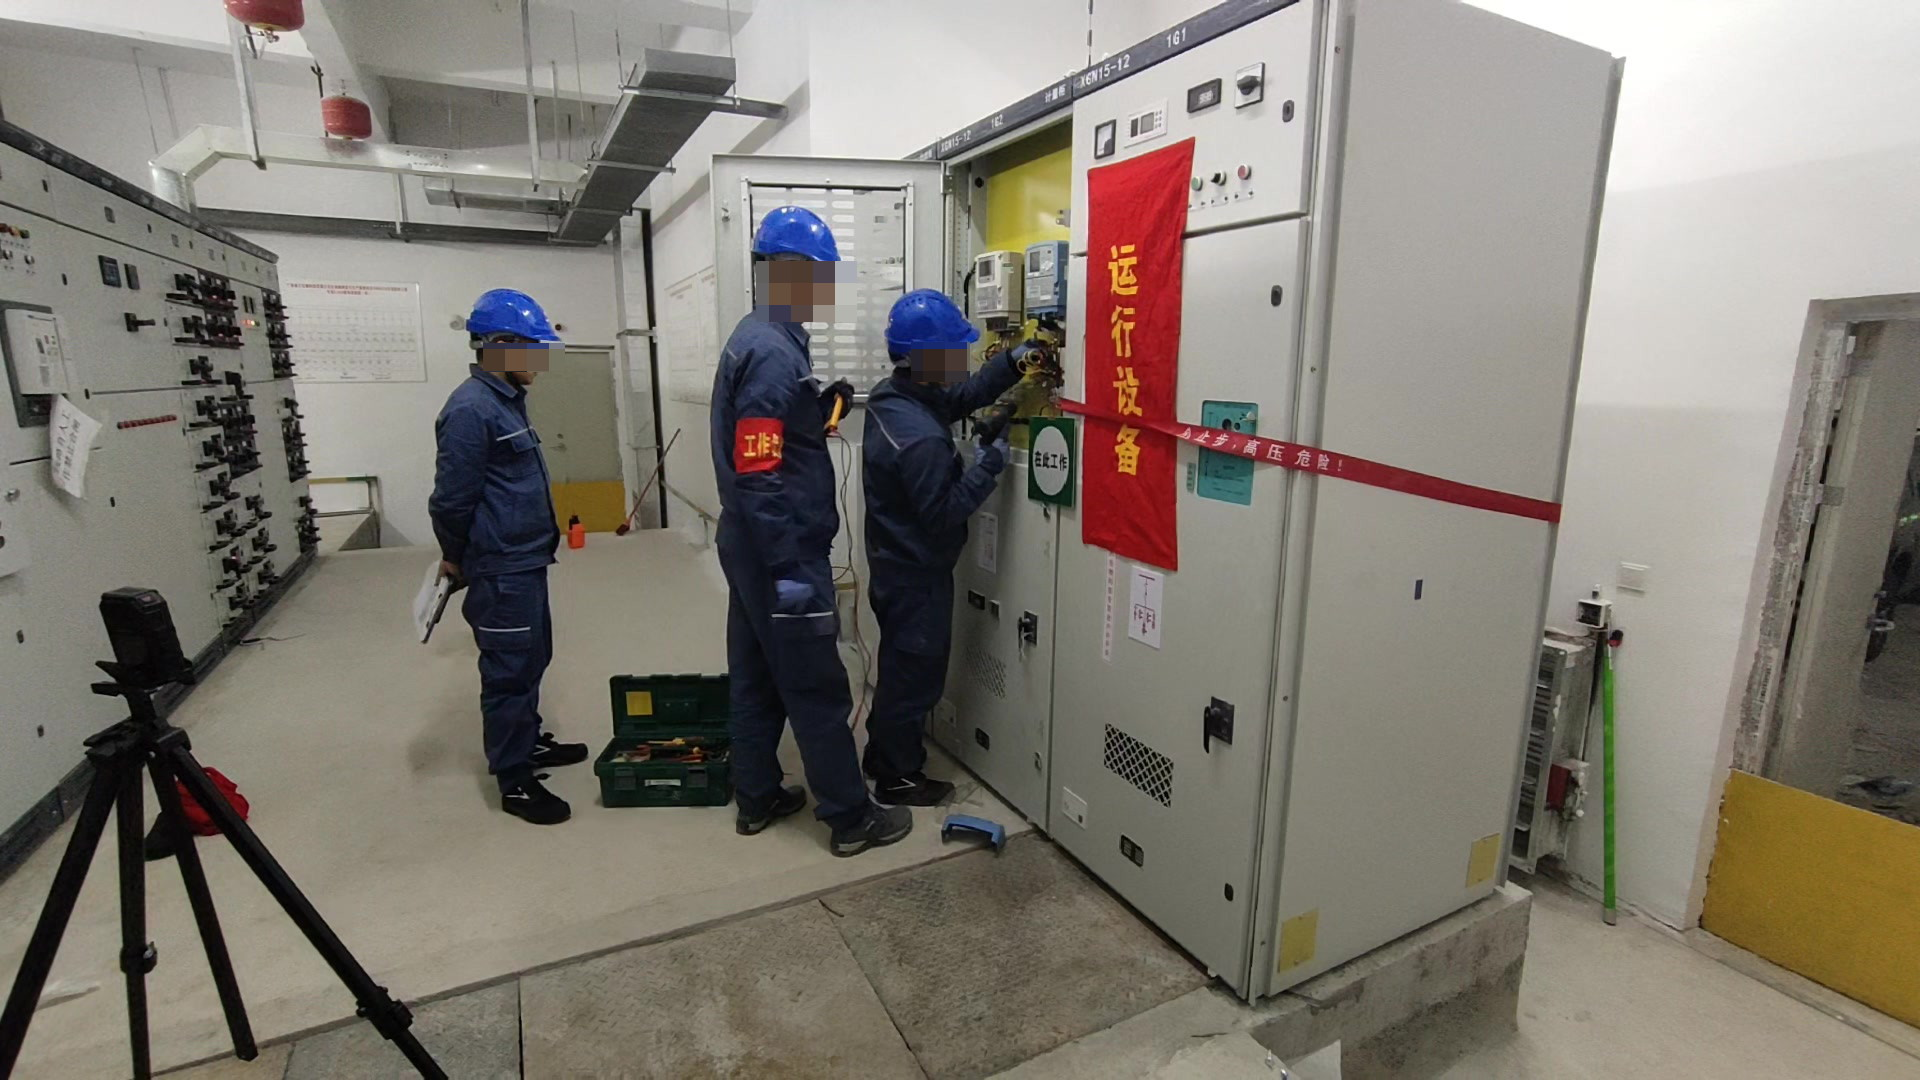badge: (729, 413, 788, 481)
downsuit: (722, 568, 865, 815), (863, 579, 957, 794), (463, 589, 557, 777)
glove: (774, 557, 821, 618), (970, 421, 1014, 476), (1009, 337, 1051, 360)
halt: (751, 207, 847, 318), (881, 289, 980, 386), (465, 286, 560, 384)
hand: (433, 559, 462, 599)
inear: (763, 254, 814, 323), (484, 325, 526, 377), (908, 348, 948, 394)
person: (700, 207, 863, 841), (858, 272, 1015, 833), (423, 283, 585, 815)
upsuit: (705, 307, 834, 533), (430, 371, 564, 569), (863, 382, 971, 561)
worksign: (1025, 403, 1094, 524)
